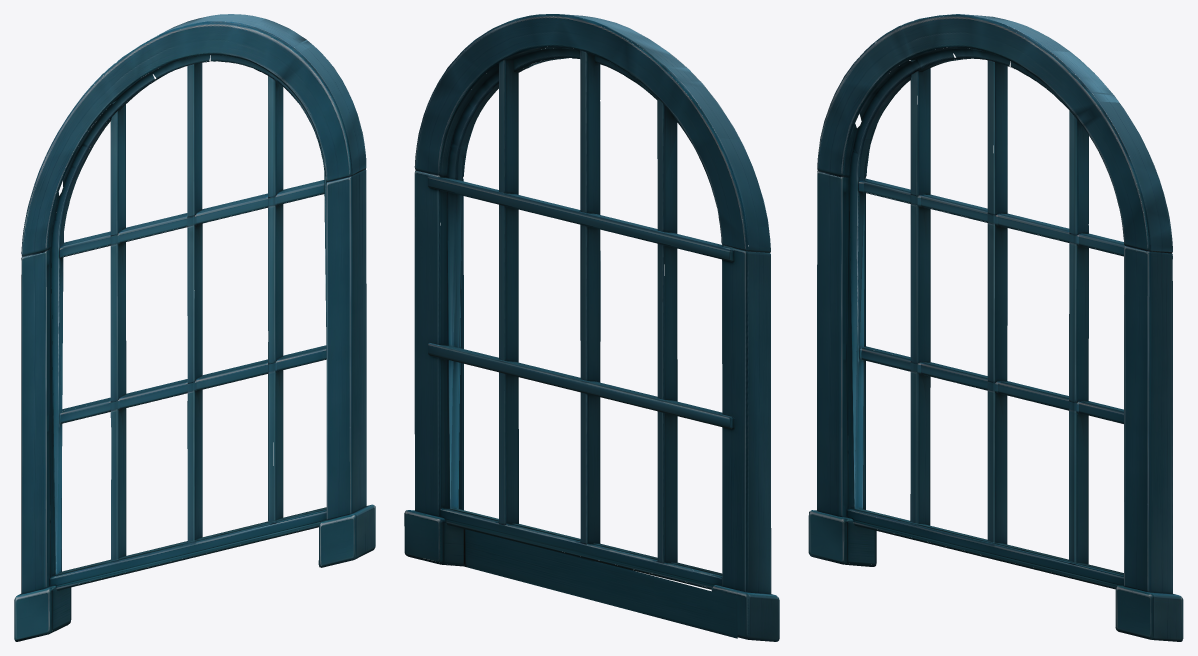
3 views of the same model, side by side, from view 1: azimuth 30°, elevation 25°; view 2: azimuth 150°, elevation 25°; view 3: azimuth 330°, elevation 25° (orthographic).
Visible parts, largest first — view 1: b02_Arched_window; view 2: b02_Arched_window; view 3: b02_Arched_window.
Boxes of the visible parts, bbox=[...] form: b02_Arched_window: bbox=[14, 14, 375, 641]; b02_Arched_window: bbox=[404, 14, 779, 641]; b02_Arched_window: bbox=[808, 14, 1183, 641].
Size of the model in its own units: 2.4 by 3.6 by 0.0797.
1 material, 1 textured.
